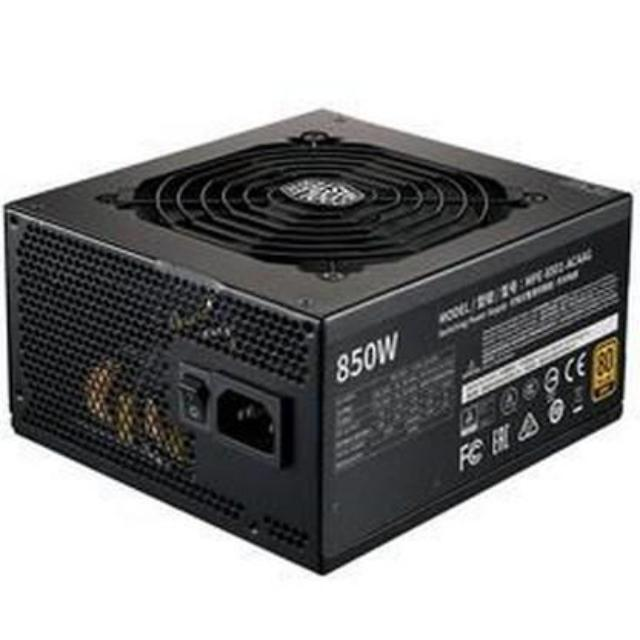PSU: (0, 92, 640, 586)
